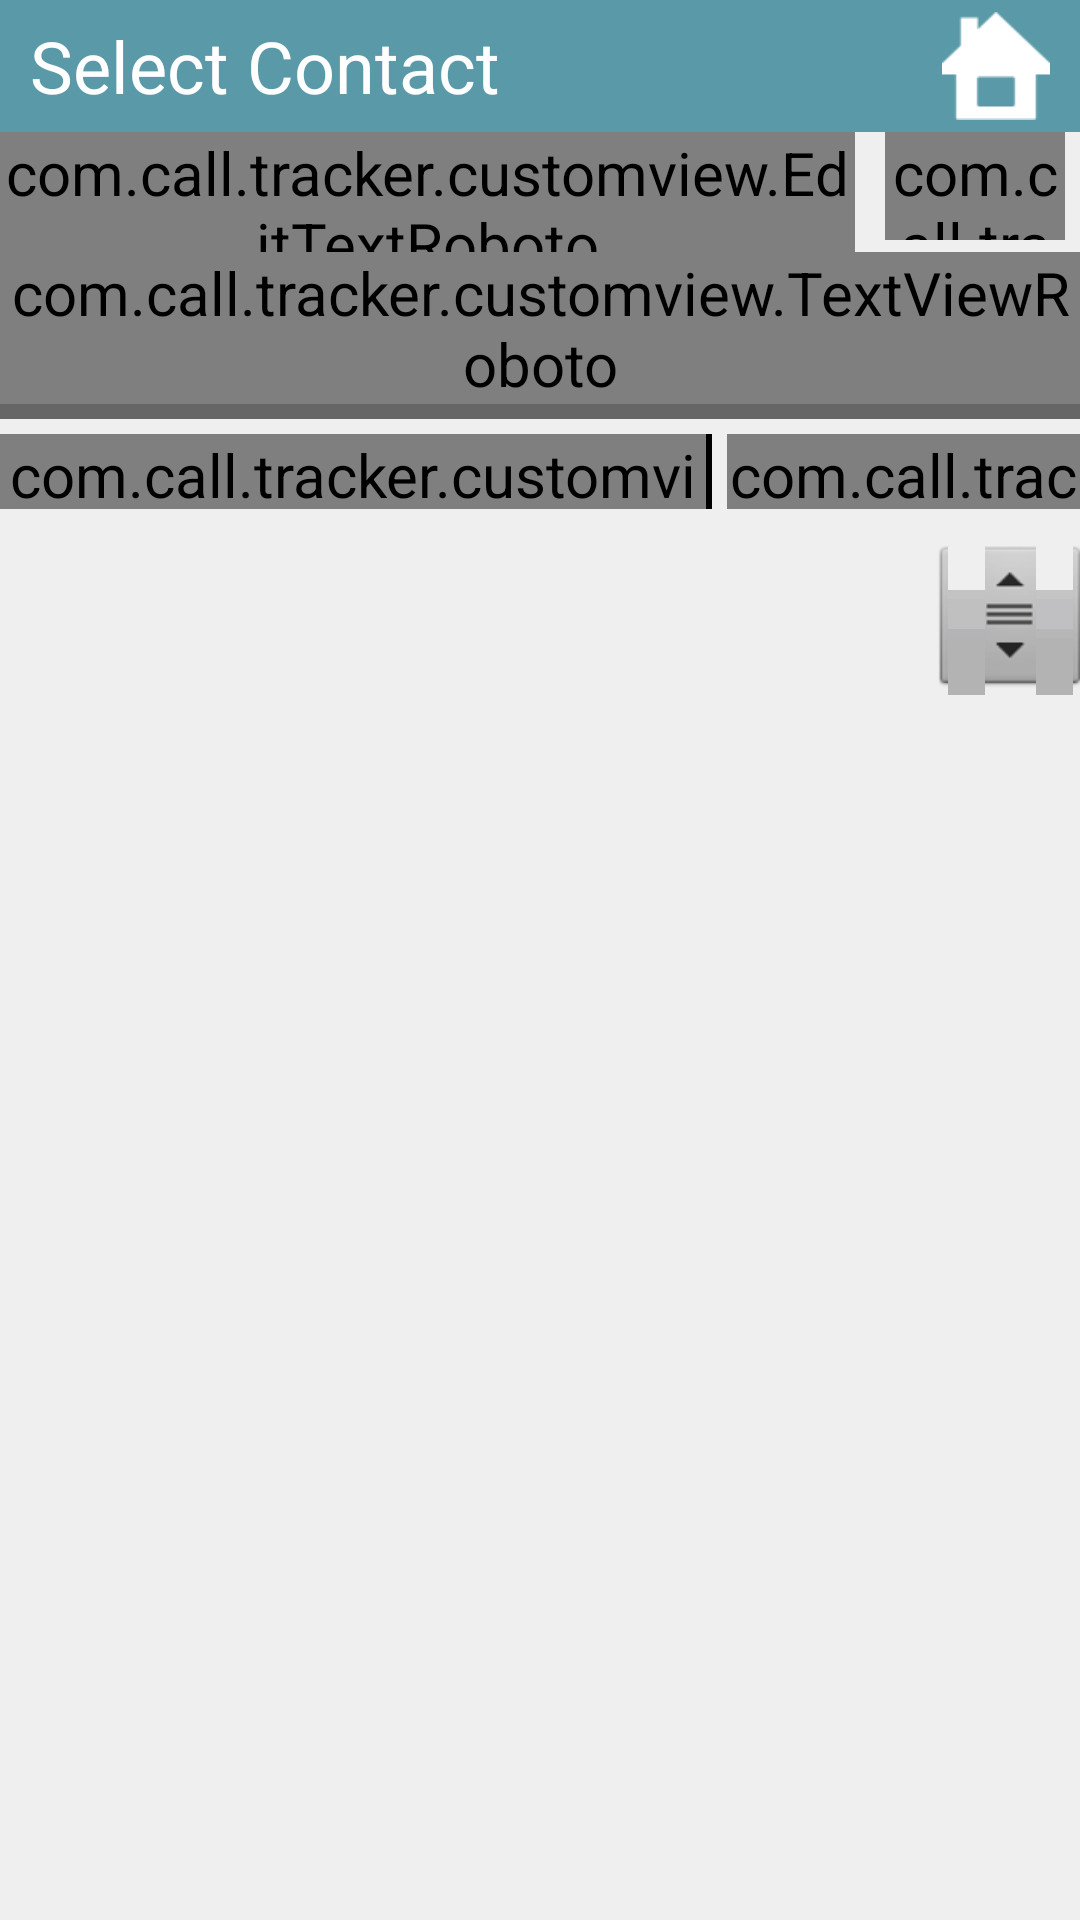

Screen size 1080*1920. Icon name, then its center in pixels as (x,y):
home: (996,66)
